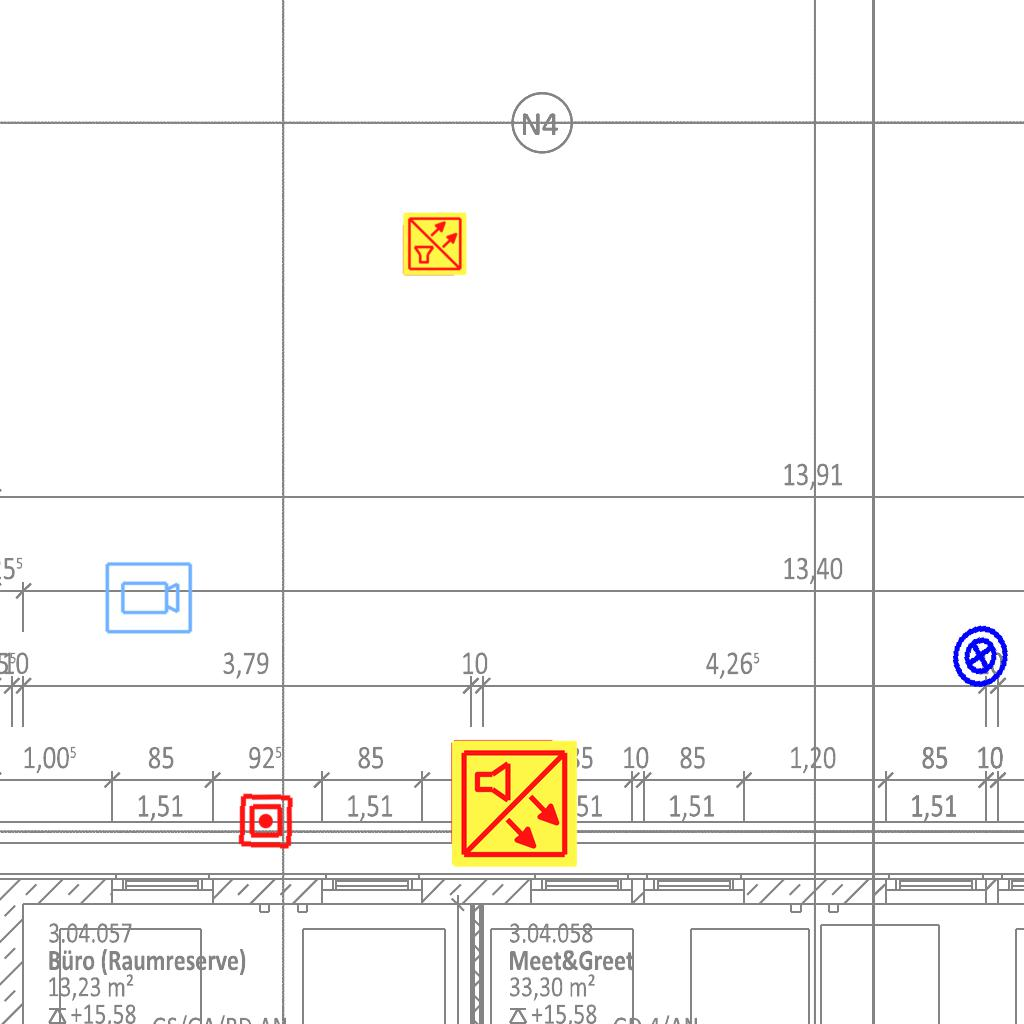KFO_Kamera_mit_Festobjektiv: (103, 560, 194, 637)
NAM-Nichtautomatischer_Melder: (237, 792, 295, 850)
OKW_Multisensormelder_(Kombination_optischer_Rauch-Kahlenmonoxid_Waerme-Melder): (448, 738, 580, 870), (402, 211, 468, 277)
Taster_beleuchtet: (940, 616, 1020, 696)
